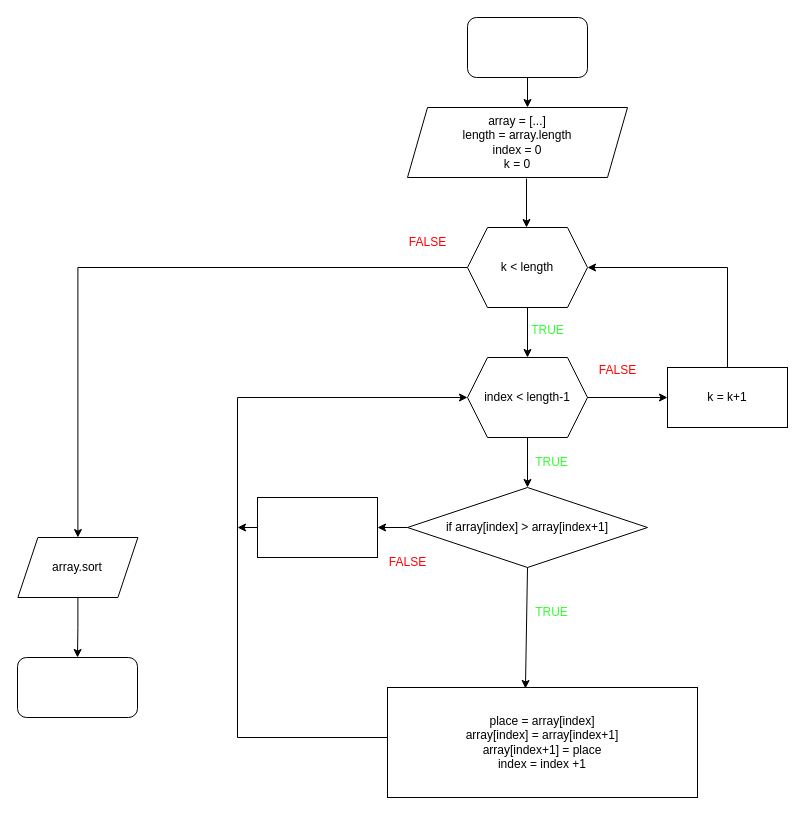
Some shapes in this 805 by 815 pixel diagram are drawn without their labels. The box of each missing label's shape, as (x1, y1, x2, y2) in pixels:
END: (16, 656, 138, 718)
index=index+1: (256, 496, 378, 558)
Start: (466, 16, 588, 78)
